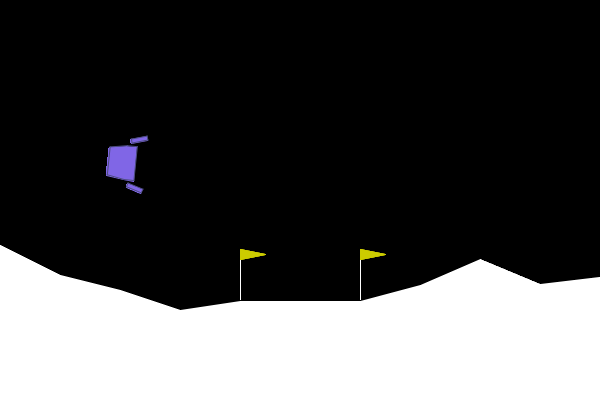lander: (103, 131, 149, 195)
